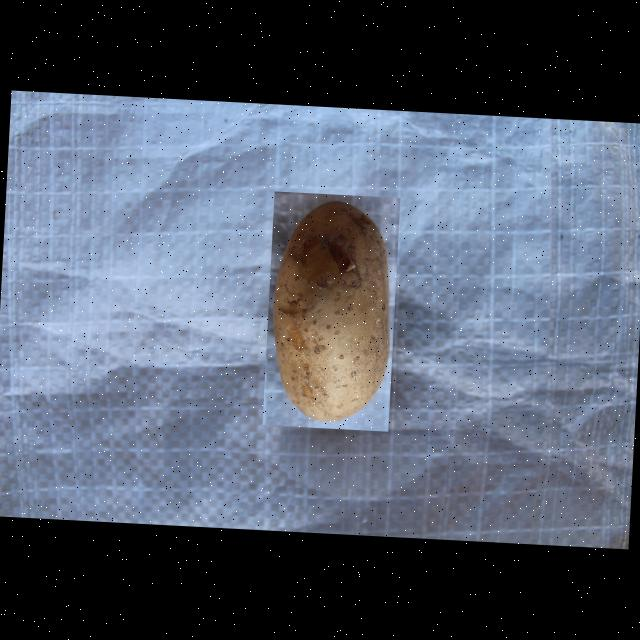Diseased-fungal potato: (262, 192, 400, 432)
